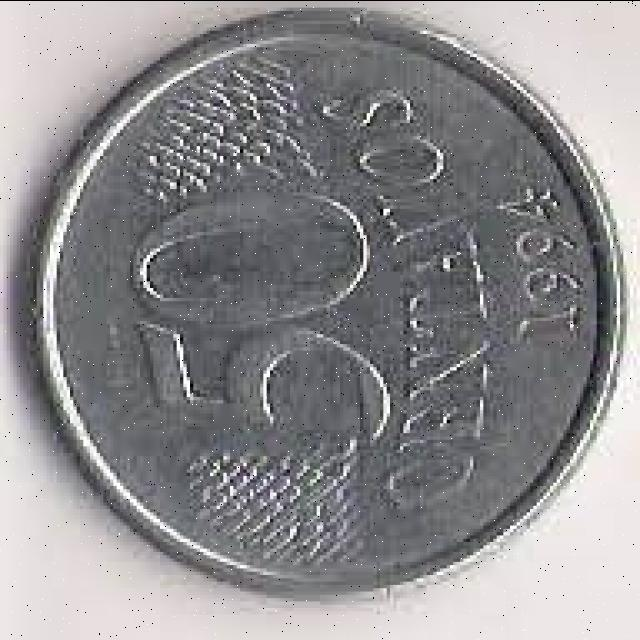50 cent: (26, 0, 626, 607)
